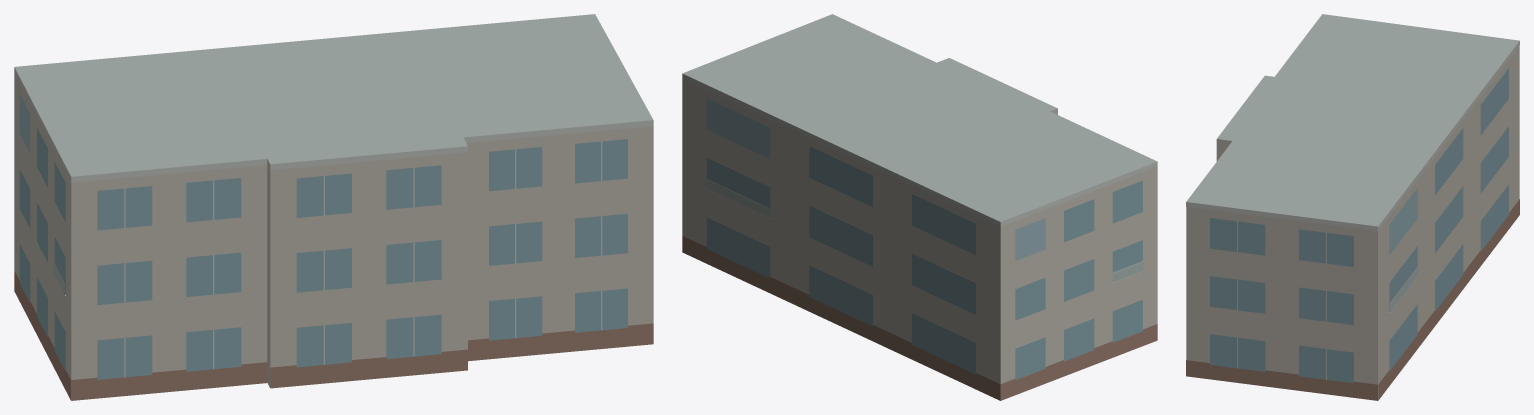
Rendered from survey-upis-32818326.glb.
3 views of the same model, side by side, from view 1: azimuth 30°, elevation 25°; view 2: azimuth 150°, elevation 25°; view 3: azimuth 270°, elevation 25° (orthographic). The views are drawn at different scales.
Visible parts, largest first — view 1: survey-upis-32818326.tmp; view 2: survey-upis-32818326.tmp; view 3: survey-upis-32818326.tmp.
Boxes of the visible parts, x1,y1,x2,y2 form: survey-upis-32818326.tmp: [14, 14, 653, 400]; survey-upis-32818326.tmp: [682, 14, 1157, 400]; survey-upis-32818326.tmp: [1186, 14, 1519, 400].
Size of the model in its own units: 23.93 by 9.15 by 15.88.
